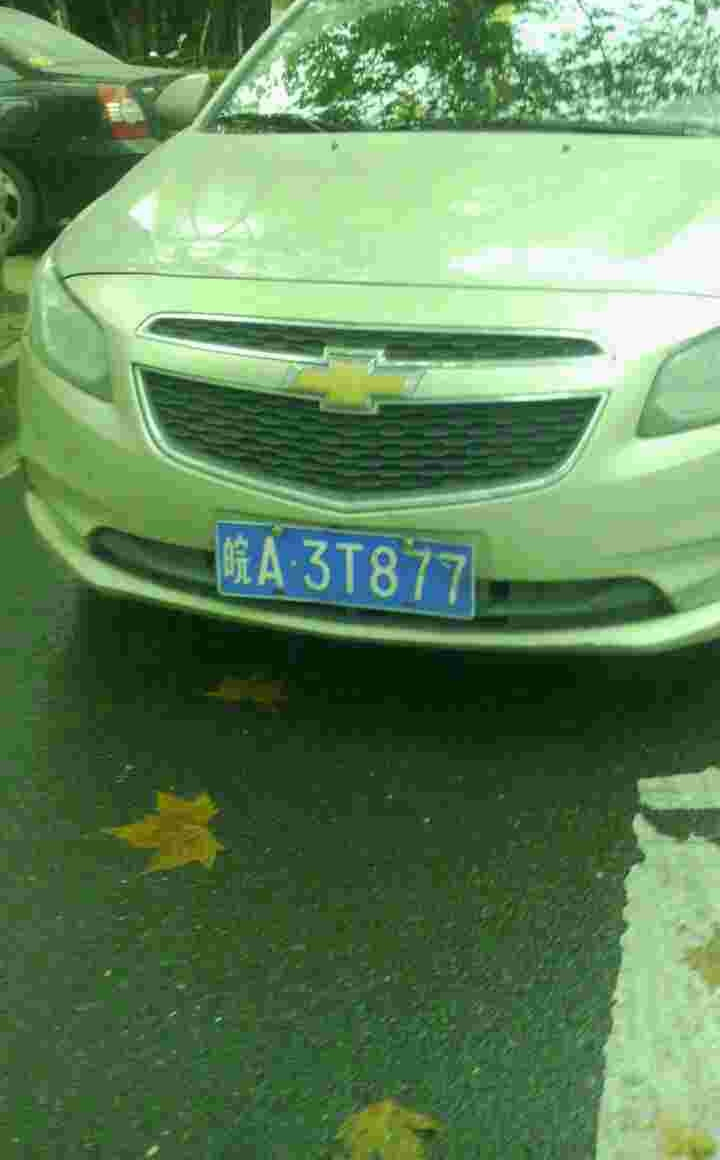license_plate: (206, 520, 470, 608)
